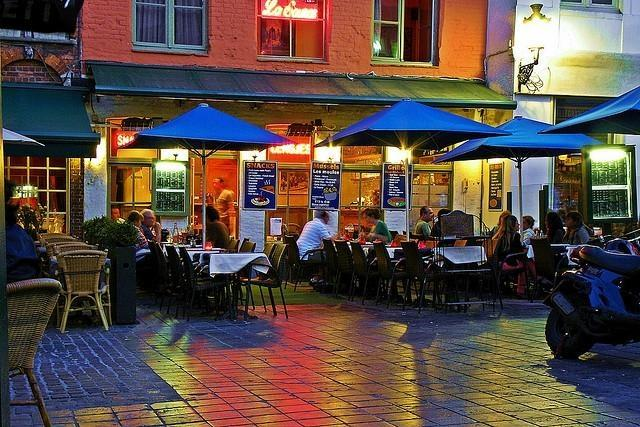motorcycle: (544, 245, 640, 361), (605, 238, 636, 256)
